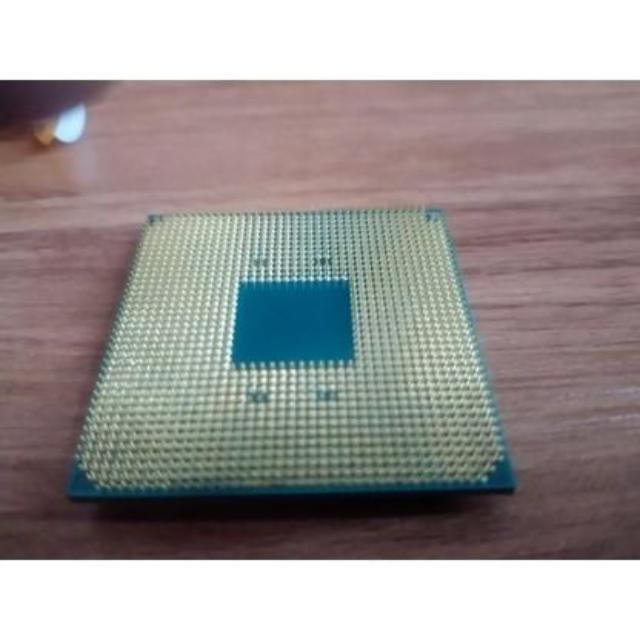CPU: (76, 206, 502, 488)
